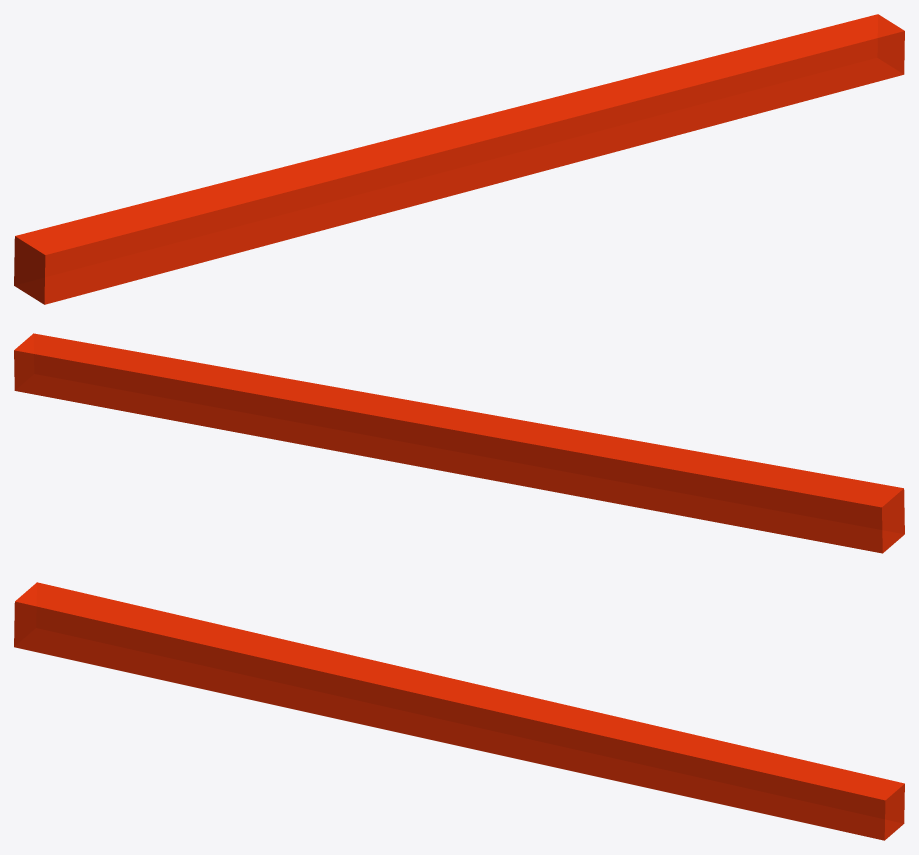
The model's file is Event_420604493_EErechit_24.fbx.
The picture shows the model from 3 angles, top to bottom: view 1: azimuth 30°, elevation 25°; view 2: azimuth 150°, elevation 25°; view 3: azimuth 330°, elevation 25°; orthographic projection. The views are drawn at different scales.
Parts seen in each view (by area): view 1: Model; view 2: Model; view 3: Model.
Part boxes in pixels (x1,y1,x2,y2): Model: [14, 14, 904, 304]; Model: [14, 333, 904, 553]; Model: [14, 582, 904, 840].
Size of the model in its own units: 1.57 by 0.1122 by 0.1909.
